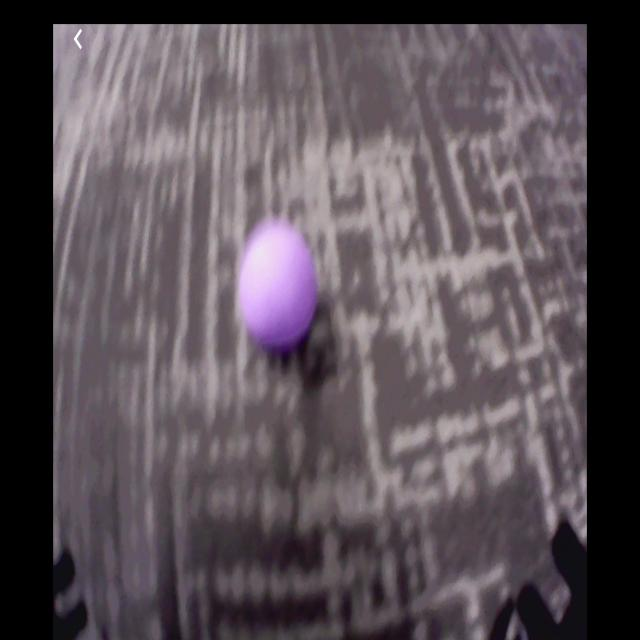ball: (240, 220, 320, 350)
